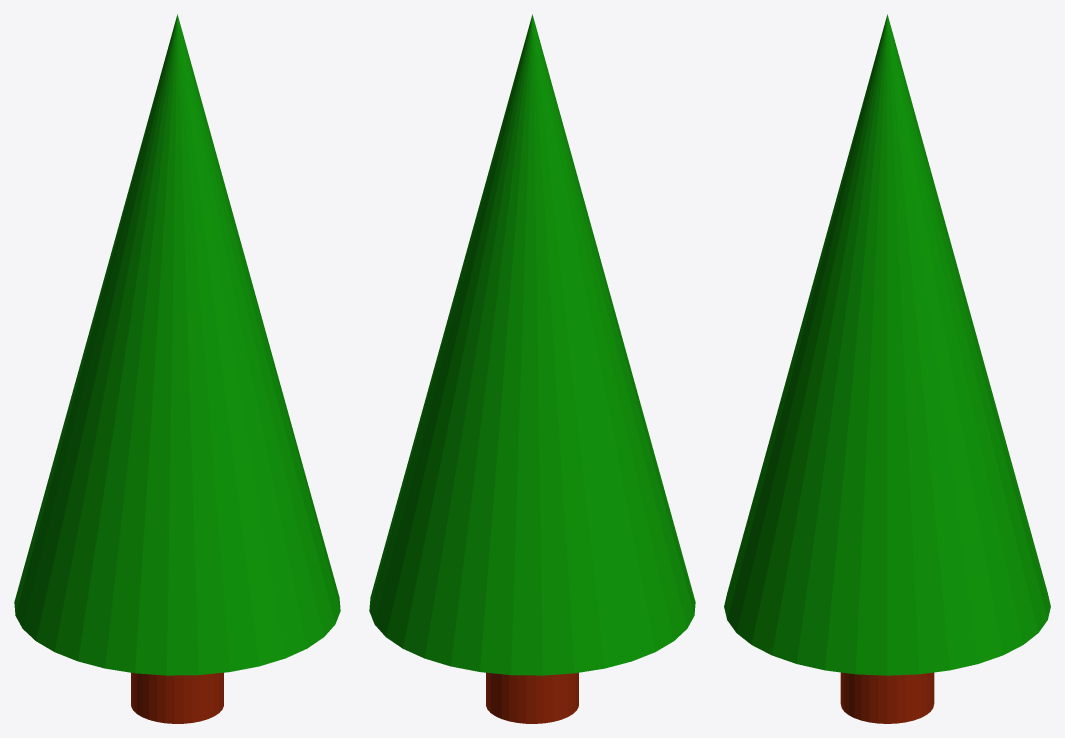
Rendered from tree.obj.
The picture shows the model from 3 angles, left to right: view 1: azimuth 30°, elevation 25°; view 2: azimuth 150°, elevation 25°; view 3: azimuth 270°, elevation 25°; orthographic projection.
Visible parts, largest first — view 1: Tree_Cylinder.001; view 2: Tree_Cylinder.001; view 3: Tree_Cylinder.001.
Boxes of the visible parts, x1,y1,x2,y2 form: Tree_Cylinder.001: (14,14,340,723); Tree_Cylinder.001: (369,14,695,723); Tree_Cylinder.001: (724,14,1050,723).
Bounding box in the file's own units: 1.2 × 2.8 × 1.2.
